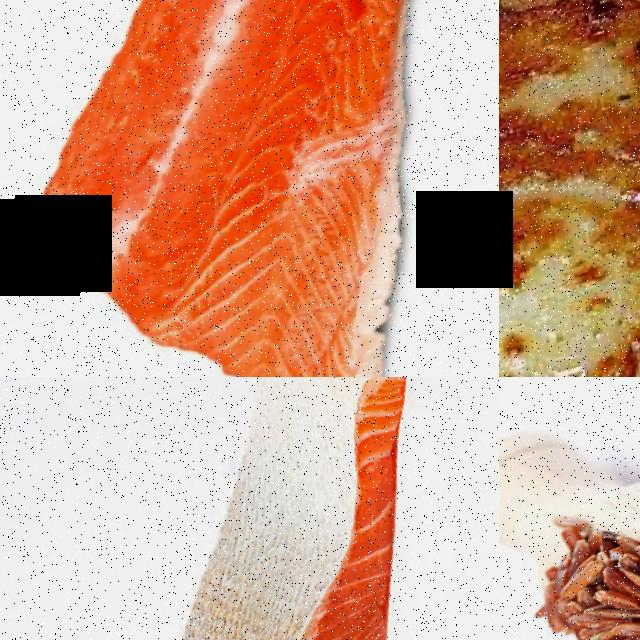red rice: (545, 504, 640, 640)
salmon: (0, 0, 488, 377), (98, 377, 481, 640)
sea scallops: (499, 0, 640, 377)
